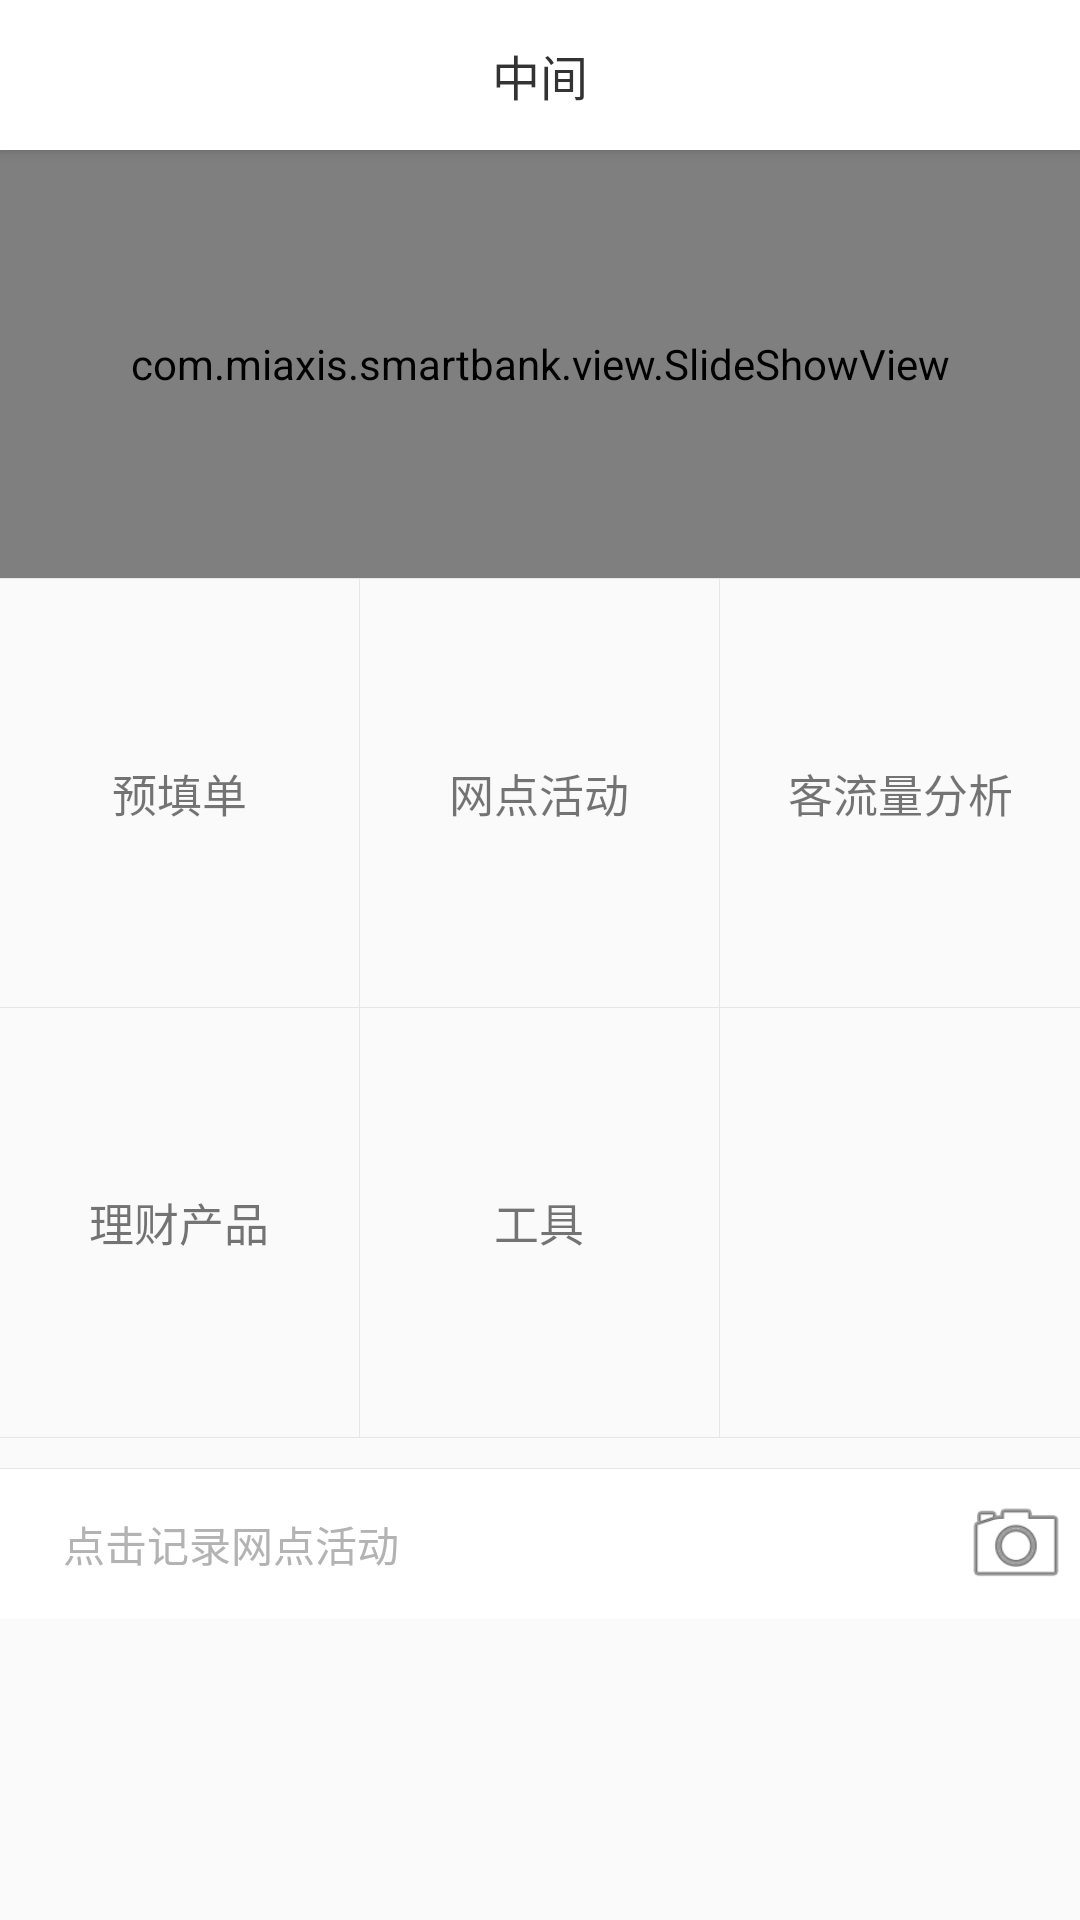

Icon bounding boxes for this 1080*1920 phone screenshot, format (x1, y1, x2, y2):
camera: (973, 1508, 1059, 1576)
